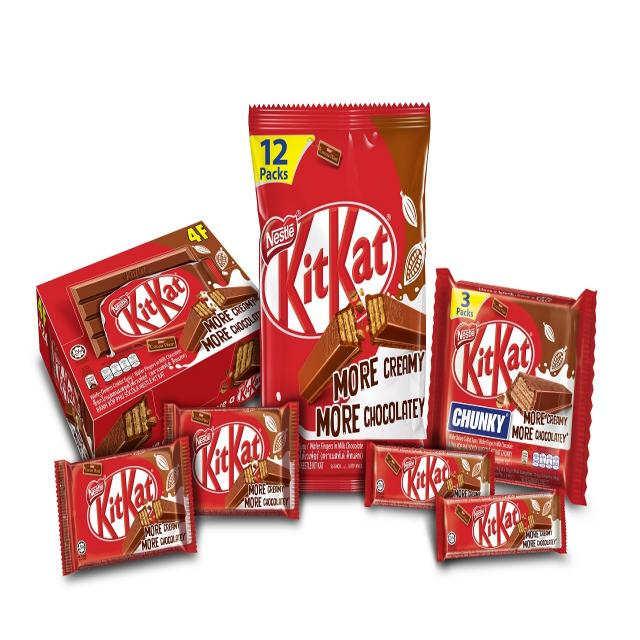kitkat: (247, 100, 427, 499), (429, 268, 597, 509), (50, 436, 198, 575), (164, 407, 302, 518), (435, 483, 565, 565), (366, 446, 496, 520)
